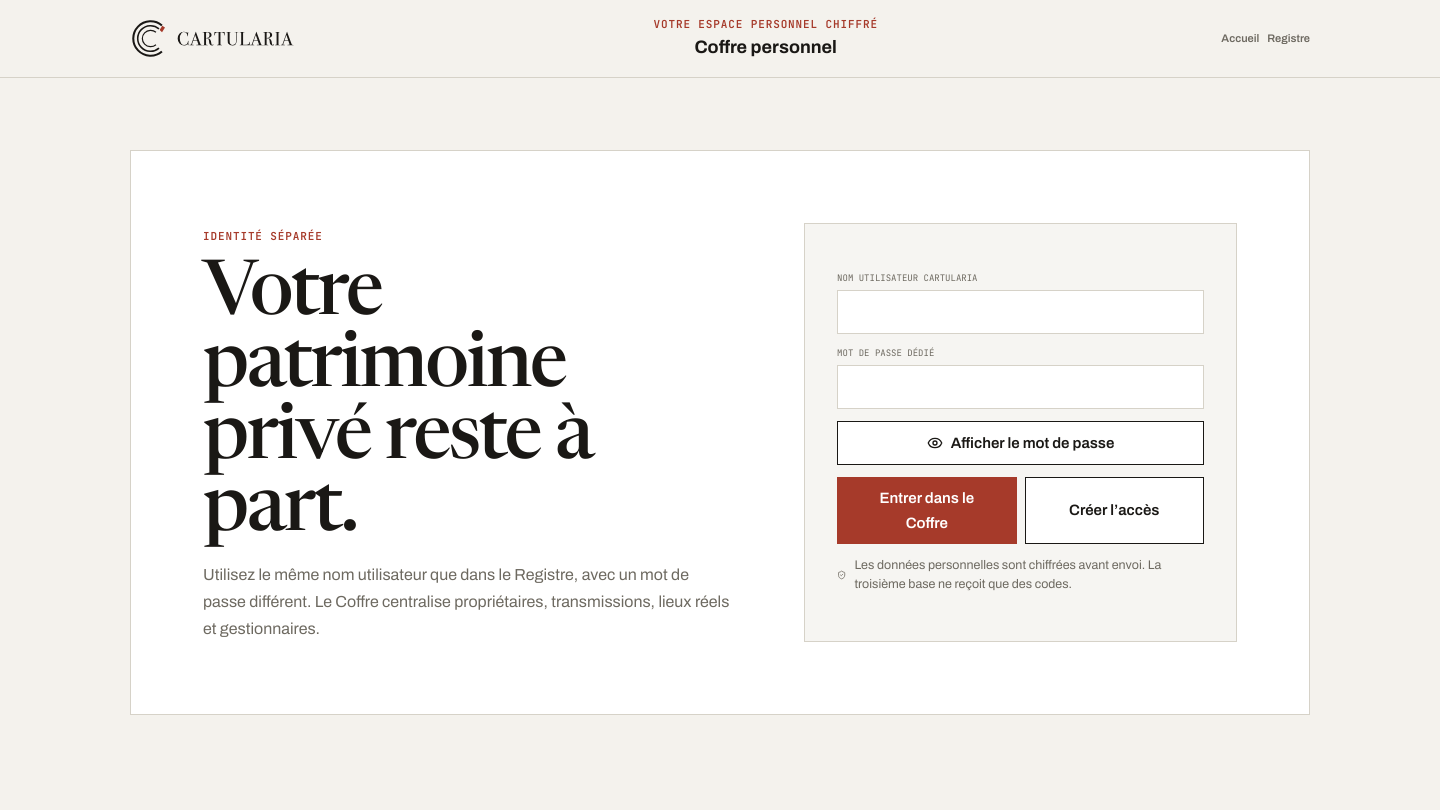
Test: AC01 : seule la clé de la session confirmée chiffre les données › après ouverture et effacement du formulaire, chaque sauvegarde utilise encore le mot de passe Auth confirmé
Type "atlas" into the field labelled "Nom utilisateur Cartularia" at (1021, 312), box 837,290 -> 1204,334
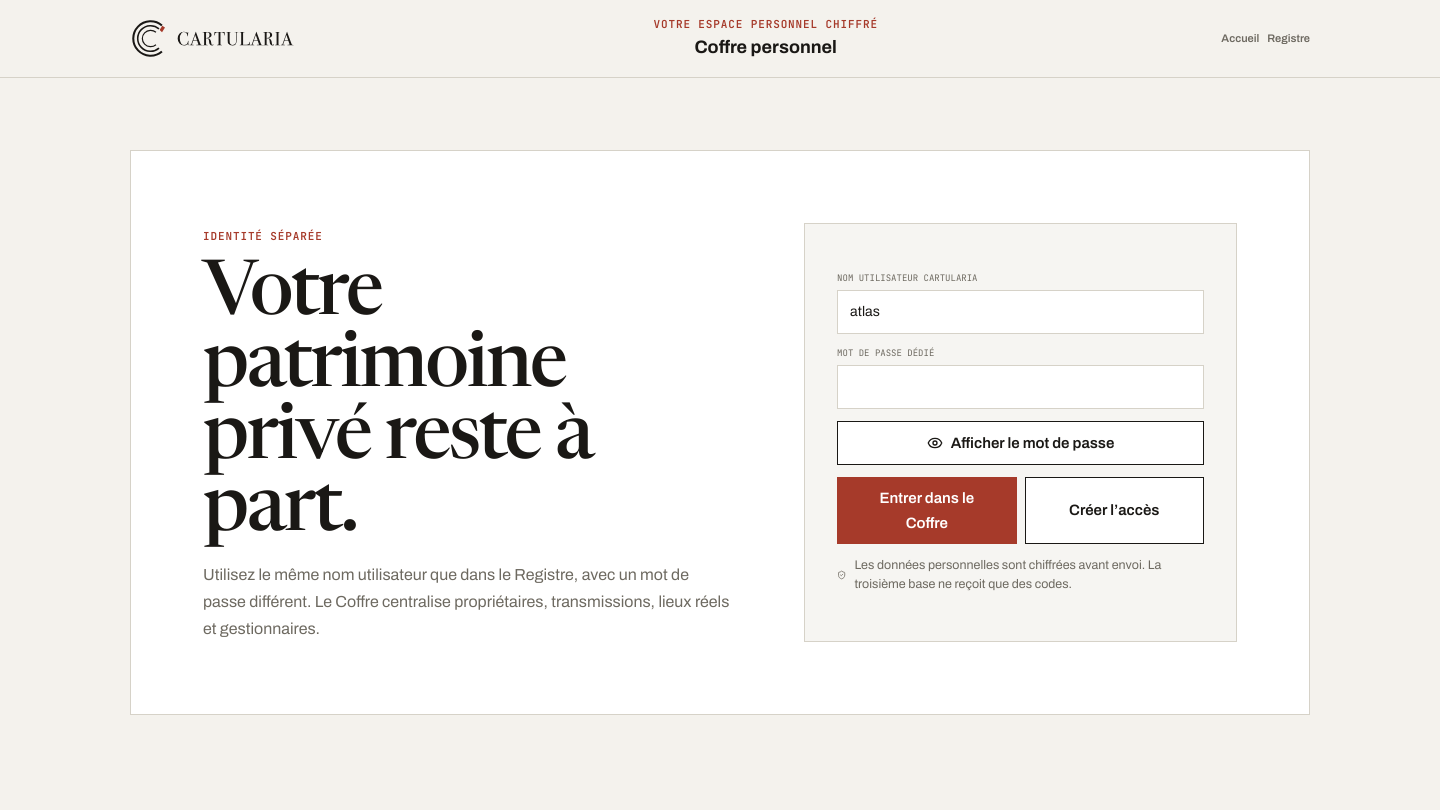
Type "auth-password-original" into the password field labelled "Mot de passe dédié" at (1021, 387), box 837,365 -> 1204,409
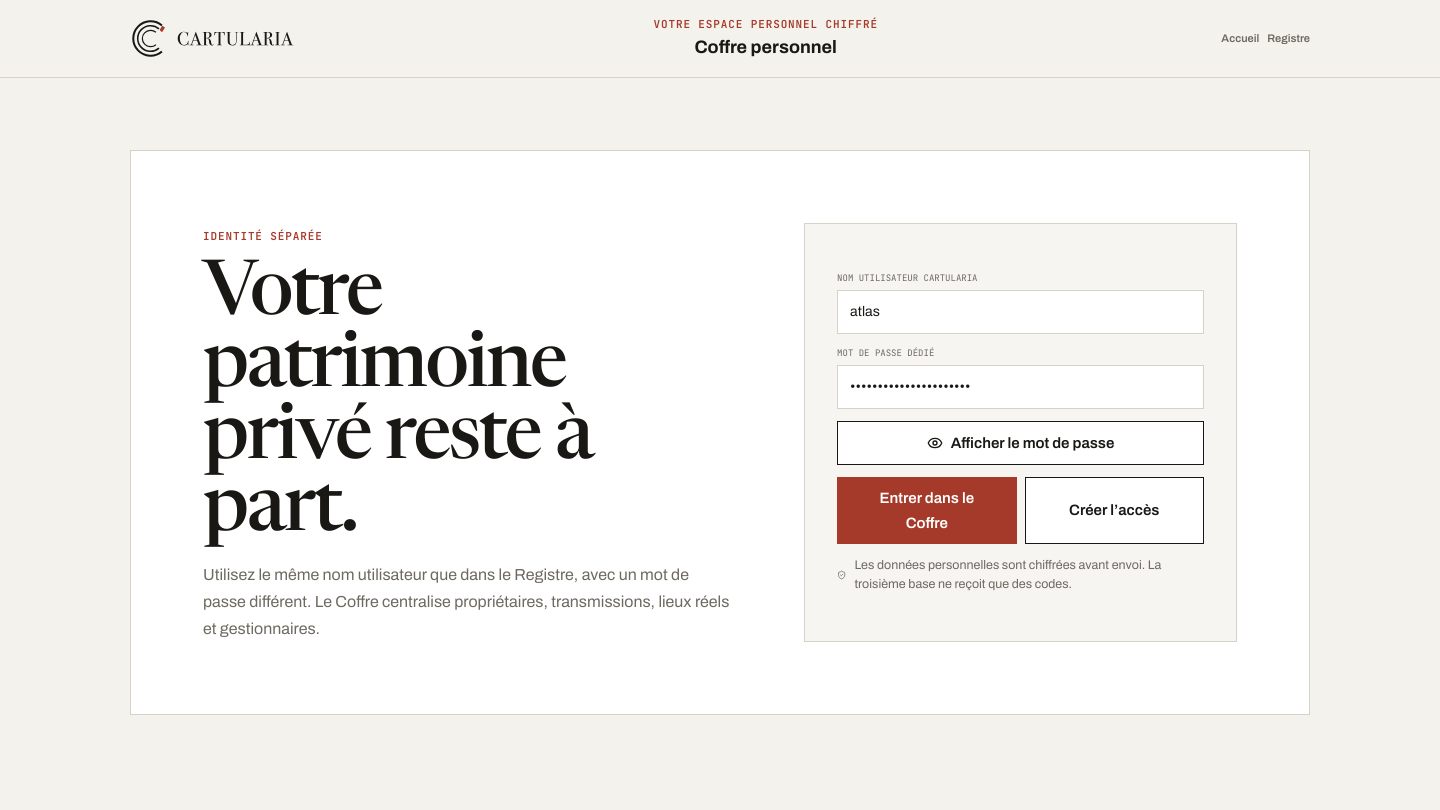
Click the button "Entrer dans le Coffre" at (927, 511), box 837,477 -> 1017,544
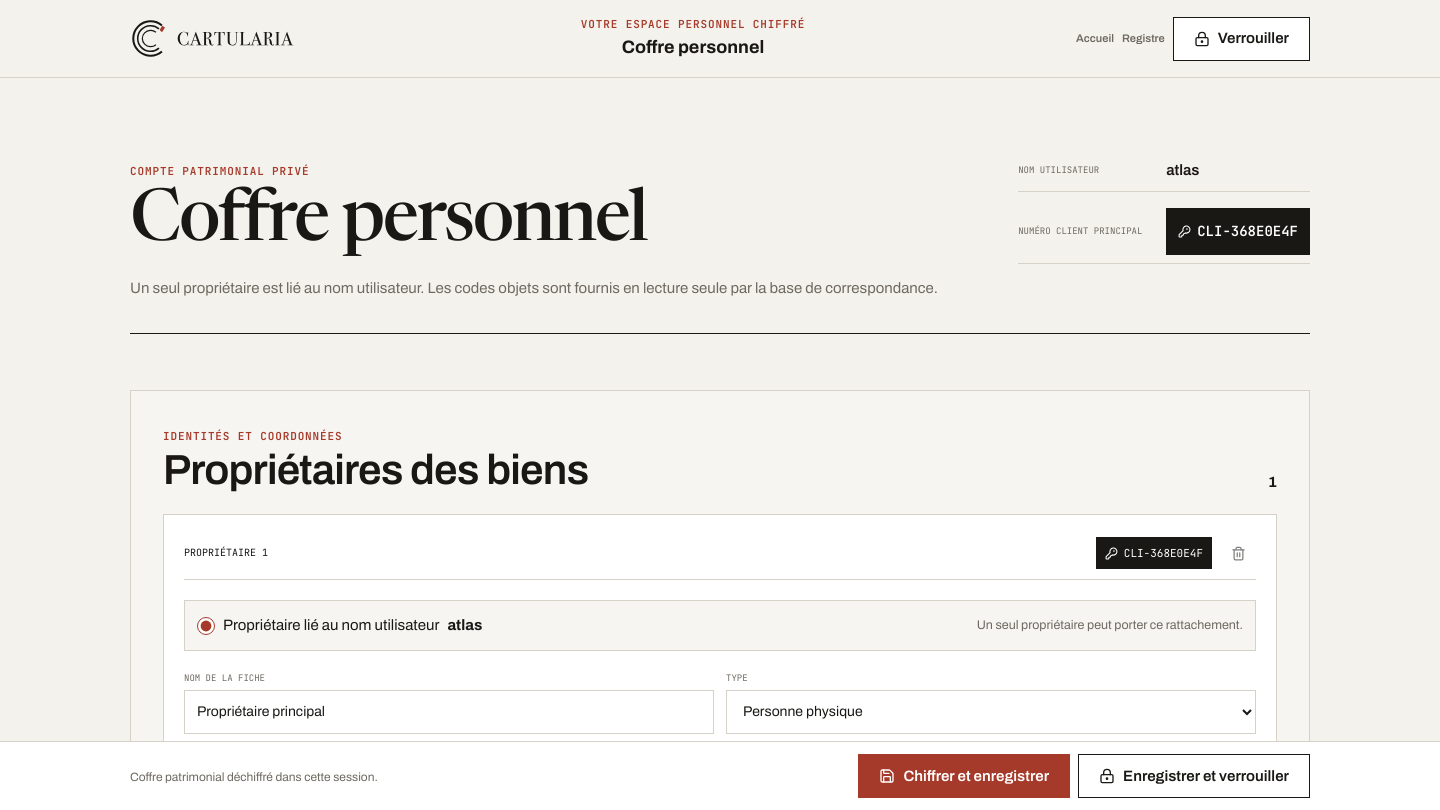
Expected: the heading "Propriétaires des biens" is shown, 163,447 -> 588,494
Click the button "Chiffrer et enregistrer" at (964, 776), box 858,754 -> 1070,798
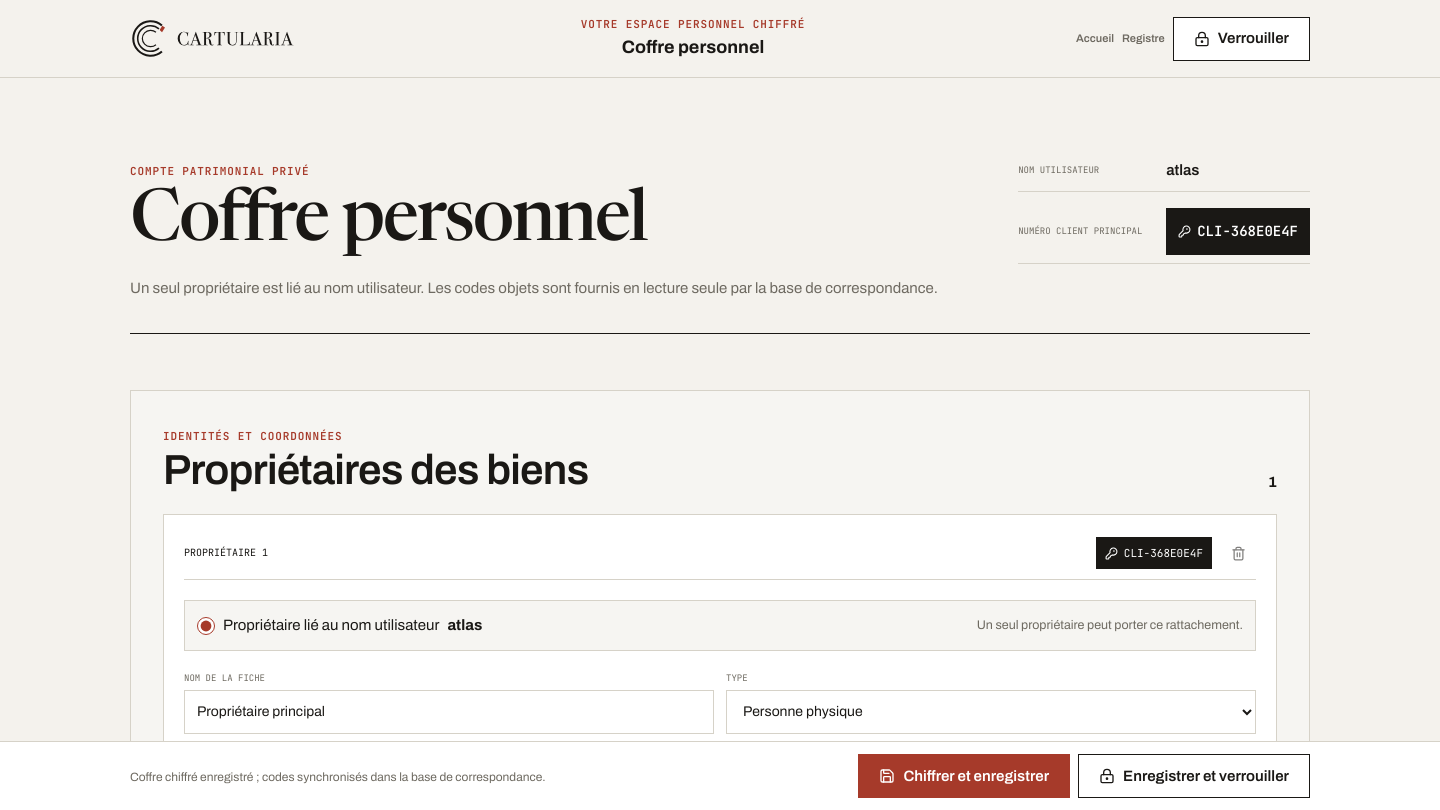
Expected: the message shows "Coffre chiffré enregistré", 130,770 -> 546,784
